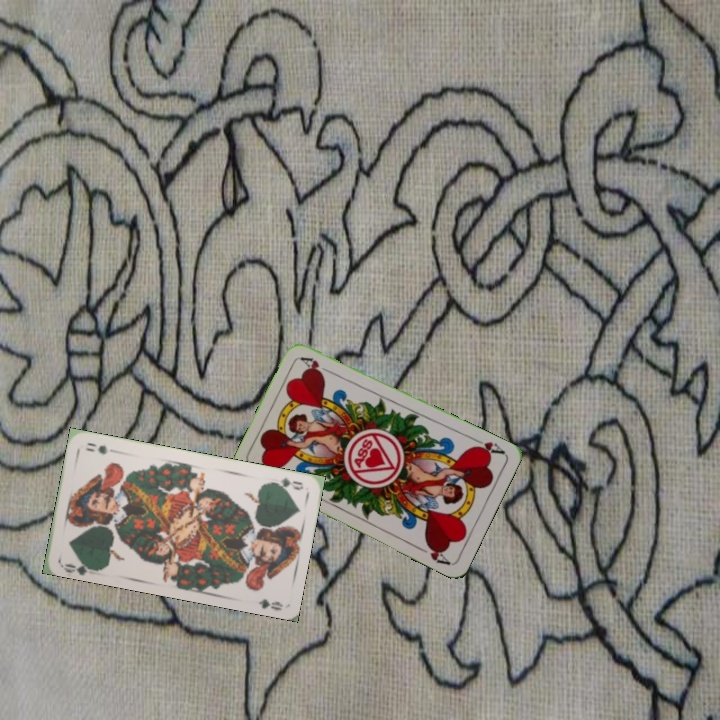GO: (58, 555, 99, 577), (266, 473, 306, 493)
HA: (467, 434, 507, 458)
